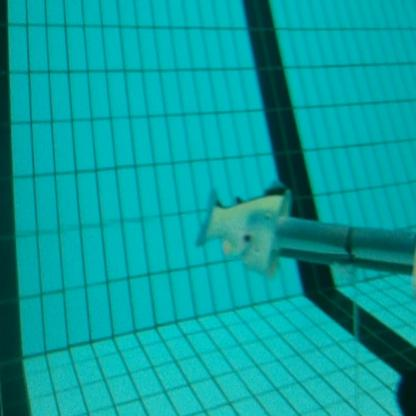tail: (190, 179, 298, 280)
